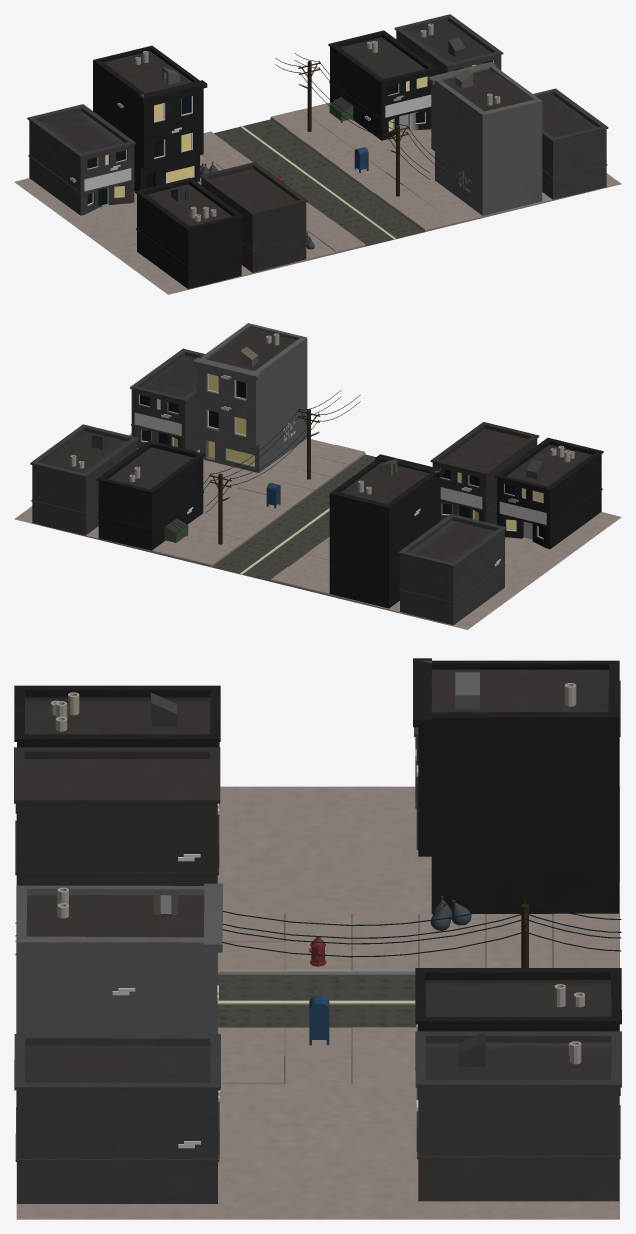
Rendered from Street.fbx.
3 renders of one model, top to bottom at view 1: azimuth 30°, elevation 25°; view 2: azimuth 150°, elevation 25°; view 3: azimuth 270°, elevation 25°, orthographic. The views are drawn at different scales.
Visible parts, largest first — view 1: Buildings_NEW_1, Floor, Road, Towers_1, Green_bin_1; view 2: Buildings_NEW_1, Floor, Road, Towers_1, Green_bin_1; view 3: Buildings_NEW_1, Floor, Road, Towers_1, Postbox_1, Trash_bags_1.
Boxes of the visible parts, x1=… form: Buildings_NEW_1: x1=27, y1=14, x2=608, y2=289; Floor: x1=14, y1=102, x2=621, y2=294; Road: x1=214, y1=119, x2=424, y2=246; Towers_1: x1=275, y1=53, x2=449, y2=196; Green_bin_1: x1=329, y1=97, x2=353, y2=122; Buildings_NEW_1: x1=30, y1=323, x2=603, y2=625; Floor: x1=14, y1=433, x2=621, y2=629; Road: x1=211, y1=452, x2=375, y2=581; Towers_1: x1=186, y1=390, x2=360, y2=544; Green_bin_1: x1=164, y1=518, x2=188, y2=542; Buildings_NEW_1: x1=14, y1=658, x2=621, y2=1203; Floor: x1=16, y1=786, x2=619, y2=1219; Road: x1=217, y1=969, x2=619, y2=1027; Towers_1: x1=15, y1=898, x2=621, y2=967; Postbox_1: x1=309, y1=995, x2=329, y2=1045; Trash_bags_1: x1=430, y1=896, x2=471, y2=930.
Size of the model in its own units: 1529 by 374 by 907.
29 materials, 29 textured.
